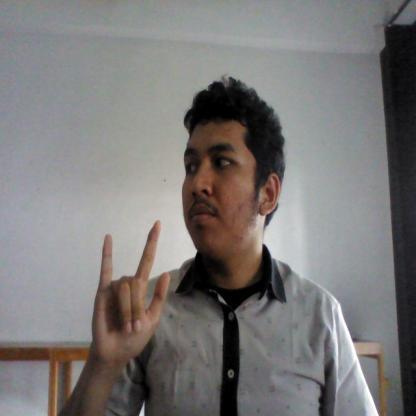ILoveYou: (91, 215, 176, 365)
